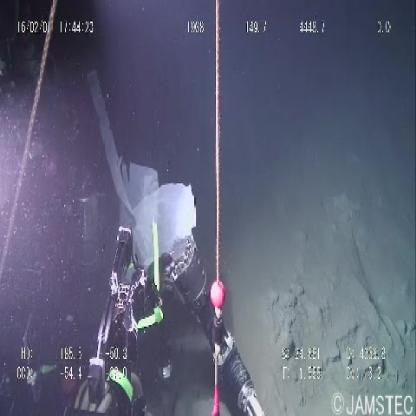Rov: (80, 222, 267, 416)
Rác: (112, 153, 198, 271)
